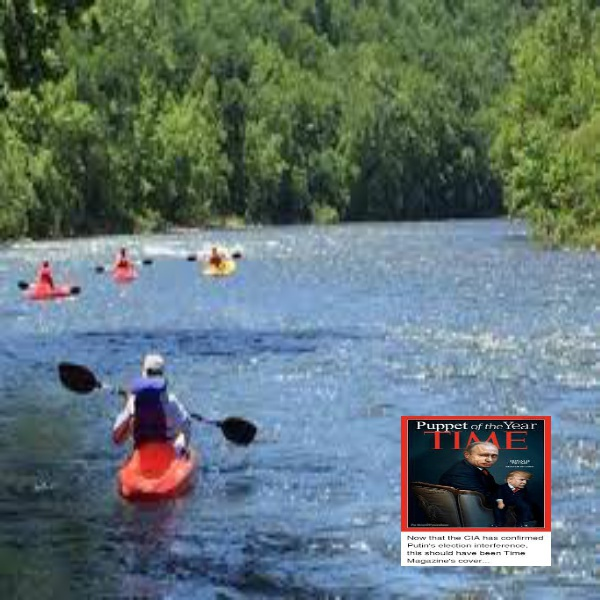time_cover: (405, 412, 557, 535)
